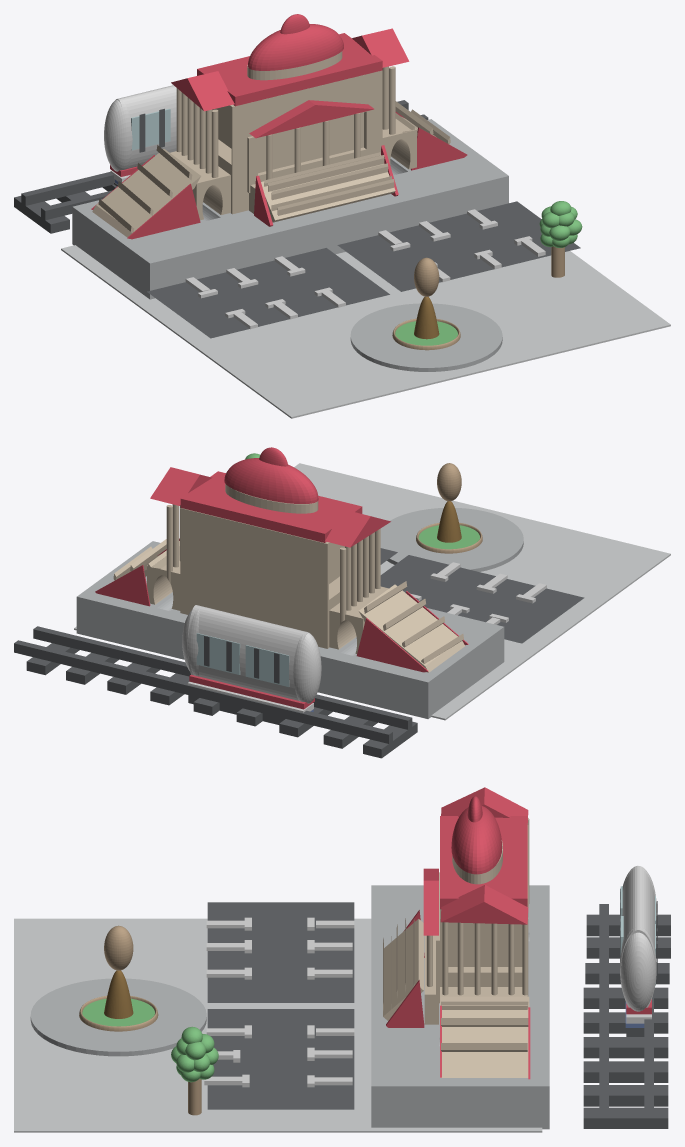
Rendered from estacion.glb.
3 views of the same model, one above another, from view 1: azimuth 30°, elevation 25°; view 2: azimuth 150°, elevation 25°; view 3: azimuth 270°, elevation 25° (orthographic). The views are drawn at different scales.
Visible parts, largest first — view 1: Mesh_Mesh_head_geo.001_lambert2SG.001; view 2: Mesh_Mesh_head_geo.001_lambert2SG.001; view 3: Mesh_Mesh_head_geo.001_lambert2SG.001.
Boxes of the visible parts, box(x1,y1,x2,y2) form: Mesh_Mesh_head_geo.001_lambert2SG.001: box(14, 14, 670, 418); Mesh_Mesh_head_geo.001_lambert2SG.001: box(14, 447, 670, 758); Mesh_Mesh_head_geo.001_lambert2SG.001: box(14, 787, 670, 1132).
Bounding box in the file's own units: 0.218 × 0.11 × 0.276.
